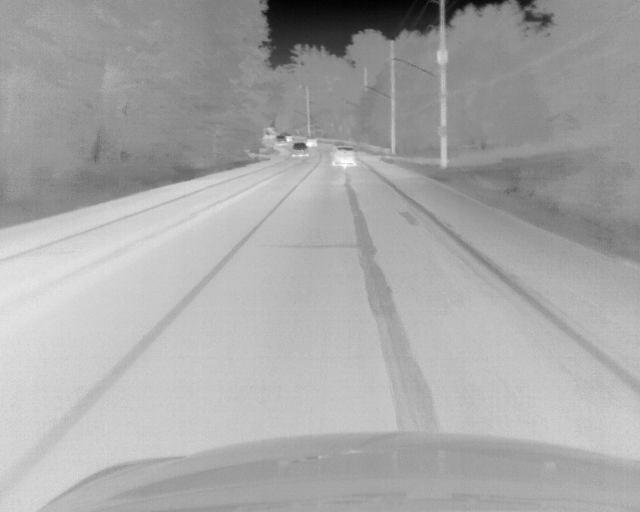car: (329, 144, 356, 168), (292, 141, 309, 159), (274, 136, 287, 147), (307, 138, 318, 148)
